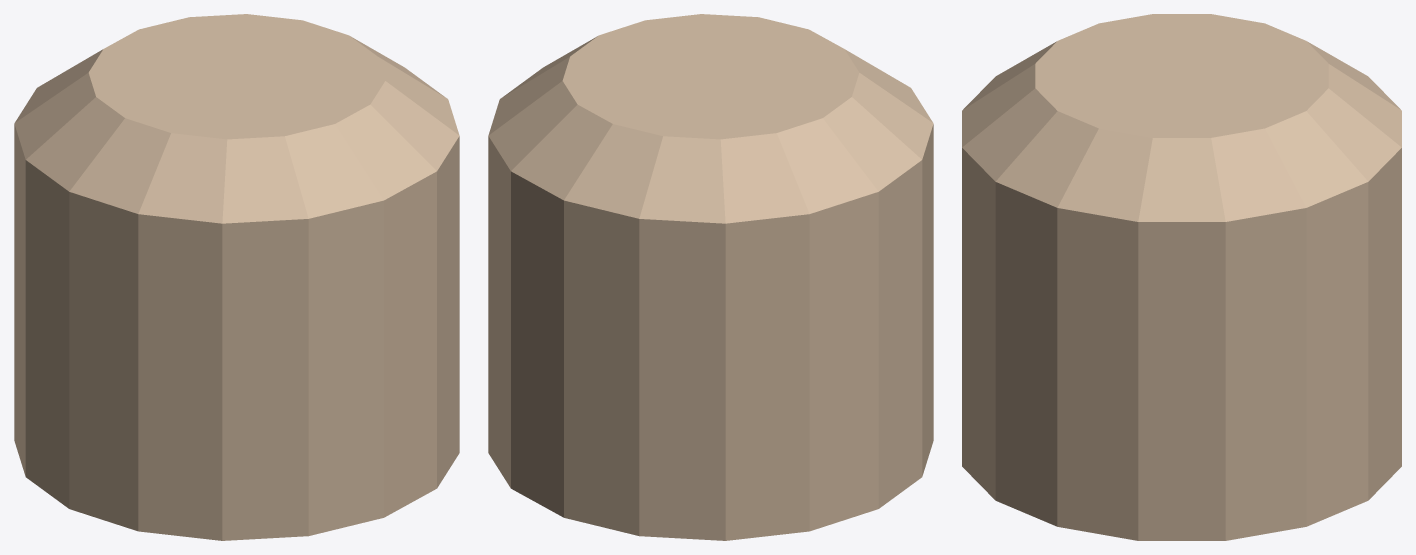
File: hamal_cargo_module_s1_1_collider.obj
The picture shows the model from 3 angles, left to right: view 1: azimuth 30°, elevation 25°; view 2: azimuth 150°, elevation 25°; view 3: azimuth 270°, elevation 25°; orthographic projection.
Parts seen in each view (by area): view 1: collider; view 2: collider; view 3: collider.
Boxes of the visible parts, <box> form: collider: <box>14,14,459,540</box>; collider: <box>488,14,933,540</box>; collider: <box>962,14,1401,540</box>.
Bounding box in the file's own units: 1.88 × 1.75 × 1.88.
